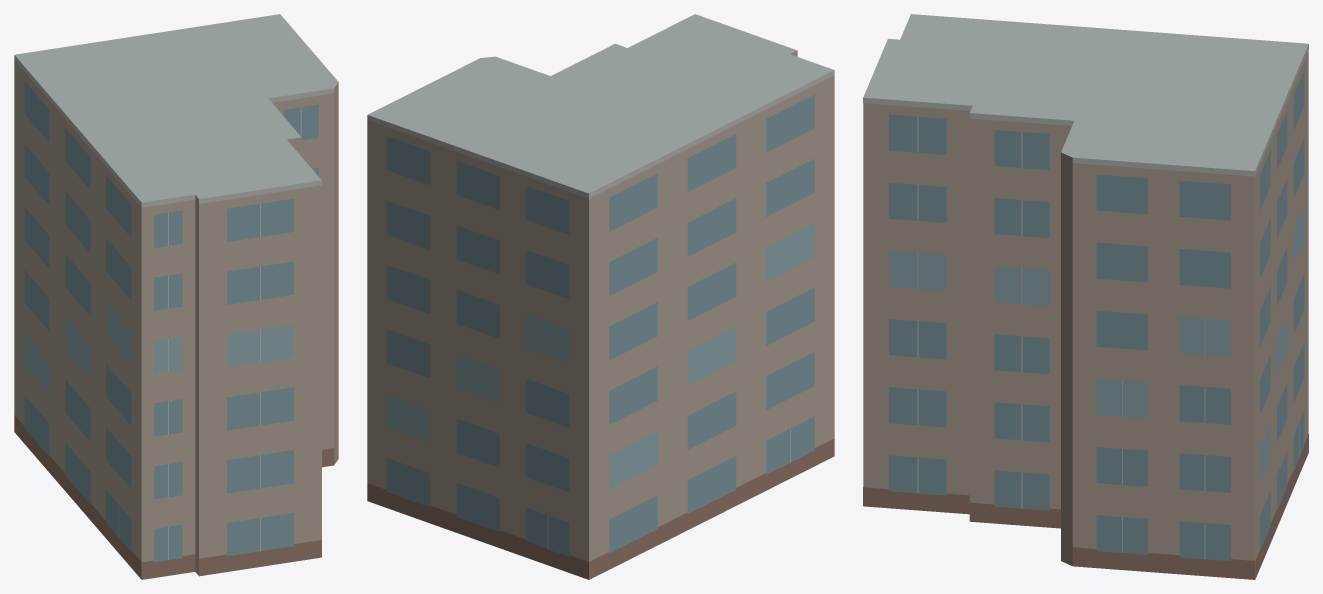
File: survey-upis-33041589.glb
3 renders of one model, left to right at view 1: azimuth 30°, elevation 25°; view 2: azimuth 150°, elevation 25°; view 3: azimuth 270°, elevation 25°, orthographic. The views are drawn at different scales.
Visible parts, largest first — view 1: survey-upis-33041589.tmp; view 2: survey-upis-33041589.tmp; view 3: survey-upis-33041589.tmp.
Part boxes in pixels (x1,y1,x2,y2): survey-upis-33041589.tmp: (14, 14, 338, 579); survey-upis-33041589.tmp: (367, 14, 834, 579); survey-upis-33041589.tmp: (863, 14, 1308, 579).
Size of the model in its own units: 15.1 by 18.3 by 18.1.
